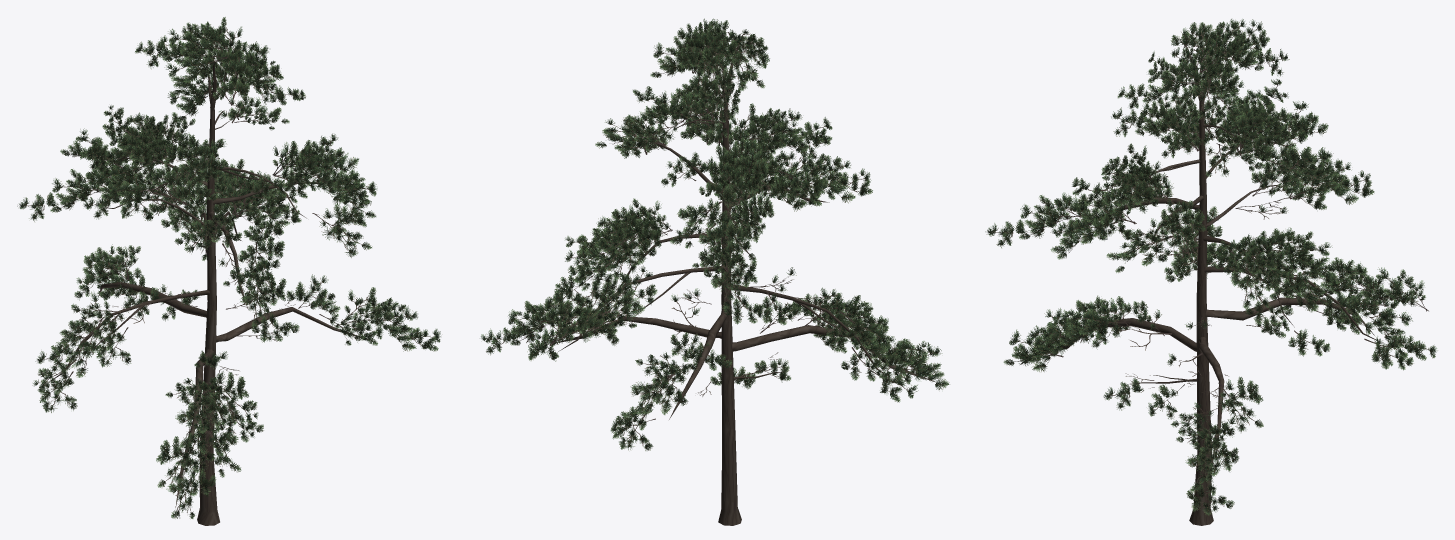
File: pine_tree.glb
3 renders of one model, left to right at view 1: azimuth 30°, elevation 25°; view 2: azimuth 150°, elevation 25°; view 3: azimuth 270°, elevation 25°, orthographic. The views are drawn at different scales.
Visible parts, largest first — view 1: Object_2, Object_3; view 2: Object_2, Object_3; view 3: Object_2, Object_3.
Boxes of the visible parts, box(x1,y1,x2,y2) form: Object_2: box(17, 17, 440, 518); Object_3: box(46, 60, 367, 525); Object_2: box(481, 18, 949, 450); Object_3: box(556, 33, 936, 525); Object_2: box(985, 19, 1437, 515); Object_3: box(1056, 37, 1383, 525).
Size of the model in its own units: 298 by 335 by 277.
Materials: 2 (2 with a texture image).
